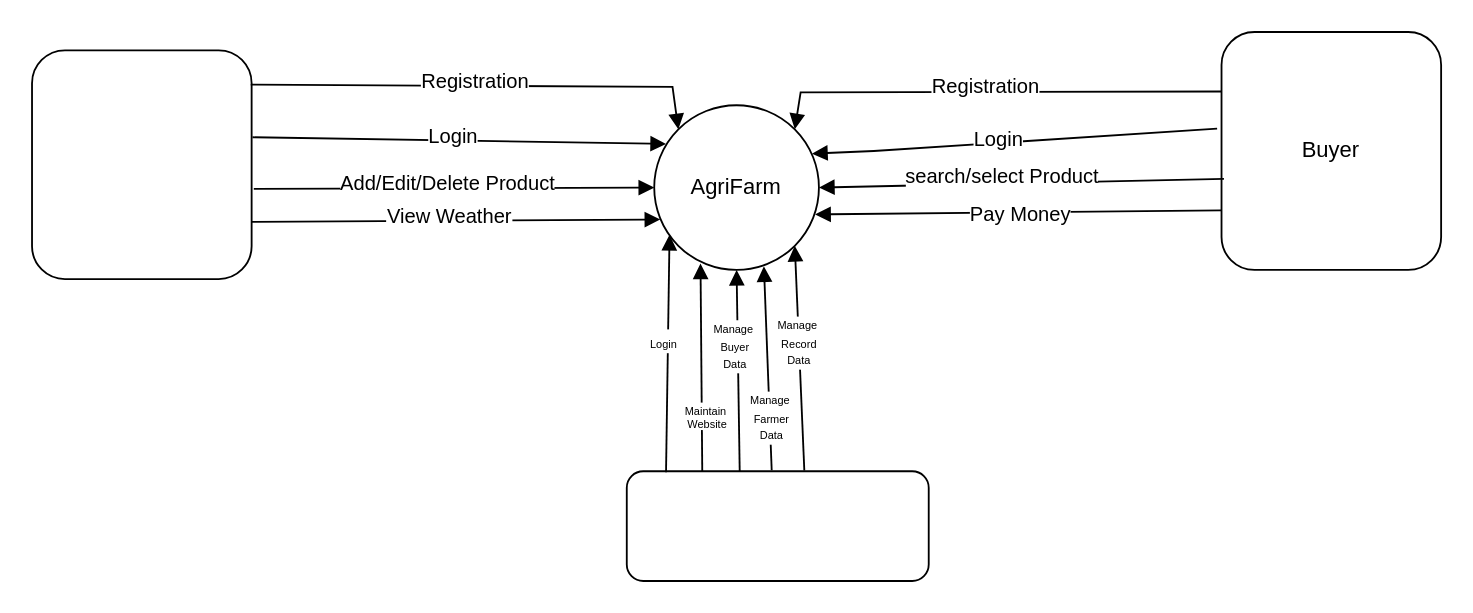
Image size: 1473x613. Some labels were removed from this diagram. The shapes that lost their labels are listed below. From the top down, each one's box as (x1, y1, x2, y2) in pixels, then its label:
(30, 48, 252, 279): Farmer
(625, 469, 929, 581): Admin
